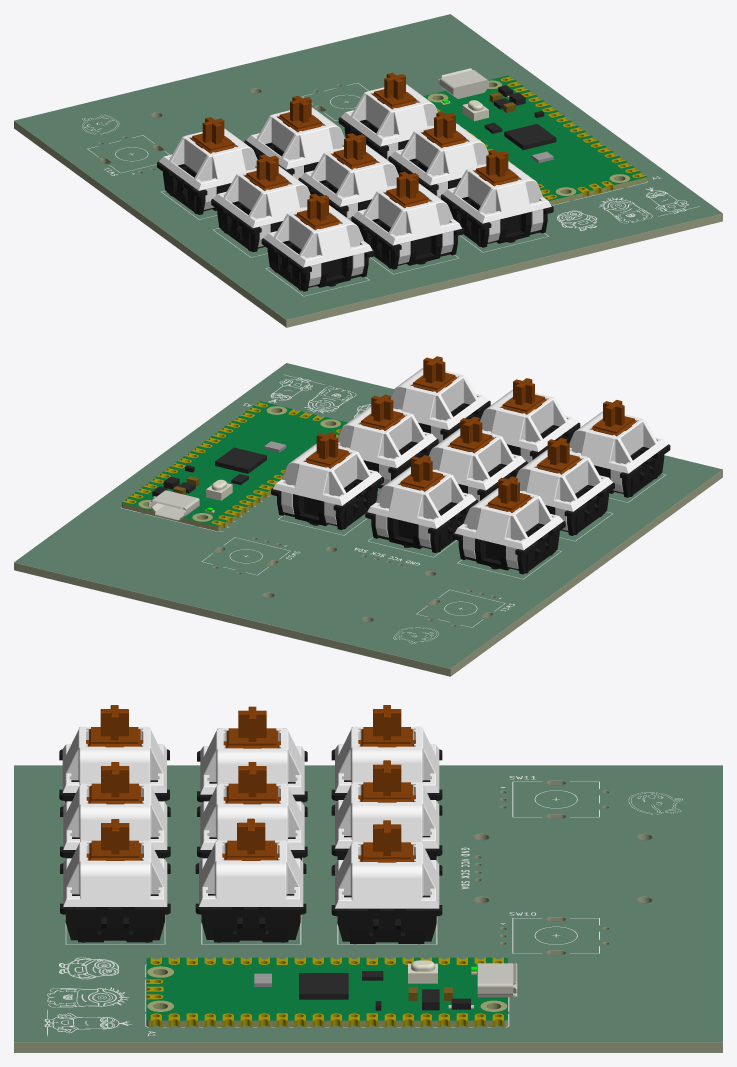
Rendered from Macropad.glb.
3 views of the same model, one above another, from view 1: azimuth 30°, elevation 25°; view 2: azimuth 150°, elevation 25°; view 3: azimuth 270°, elevation 25° (orthographic). The views are drawn at different scales.
Parts seen in each view (by area): view 1: =>[0:1:1:11], =>[0:1:1:9], =>[0:1:1:3] (×9), RaspberryPi_Pico_Module_KiCad, =>[0:1:1:7], =>[0:1:1:10]; view 2: =>[0:1:1:11], =>[0:1:1:9], =>[0:1:1:3] (×9), RaspberryPi_Pico_Module_KiCad, =>[0:1:1:7], =>[0:1:1:10]; view 3: =>[0:1:1:11], =>[0:1:1:9], =>[0:1:1:3] (×9), RaspberryPi_Pico_Module_KiCad, =>[0:1:1:7], =>[0:1:1:10].
Boxes of the visible parts, left/top/right/bottom form: =>[0:1:1:11]: left=14, top=15, right=722, bottom=327; =>[0:1:1:9]: left=14, top=14, right=722, bottom=319; =>[0:1:1:3] (×9): left=157, top=72, right=553, bottom=291; RaspberryPi_Pico_Module_KiCad: left=423, top=68, right=646, bottom=205; =>[0:1:1:7]: left=82, top=82, right=699, bottom=296; =>[0:1:1:10]: left=14, top=128, right=722, bottom=327; =>[0:1:1:11]: left=14, top=364, right=722, bottom=676; =>[0:1:1:9]: left=14, top=363, right=722, bottom=668; =>[0:1:1:3] (×9): left=271, top=356, right=670, bottom=574; RaspberryPi_Pico_Module_KiCad: left=121, top=401, right=347, bottom=531; =>[0:1:1:7]: left=121, top=374, right=665, bottom=644; =>[0:1:1:10]: left=15, top=477, right=722, bottom=676; =>[0:1:1:11]: left=14, top=766, right=722, bottom=1052; =>[0:1:1:9]: left=14, top=765, right=722, bottom=1042; =>[0:1:1:3] (×9): left=59, top=705, right=442, bottom=944; RaspberryPi_Pico_Module_KiCad: left=146, top=957, right=517, bottom=1026; =>[0:1:1:7]: left=44, top=776, right=682, bottom=1036; =>[0:1:1:10]: left=14, top=1052, right=722, bottom=1052.
Size of the model in its own units: 0.0925 by 0.0186 by 0.1.
